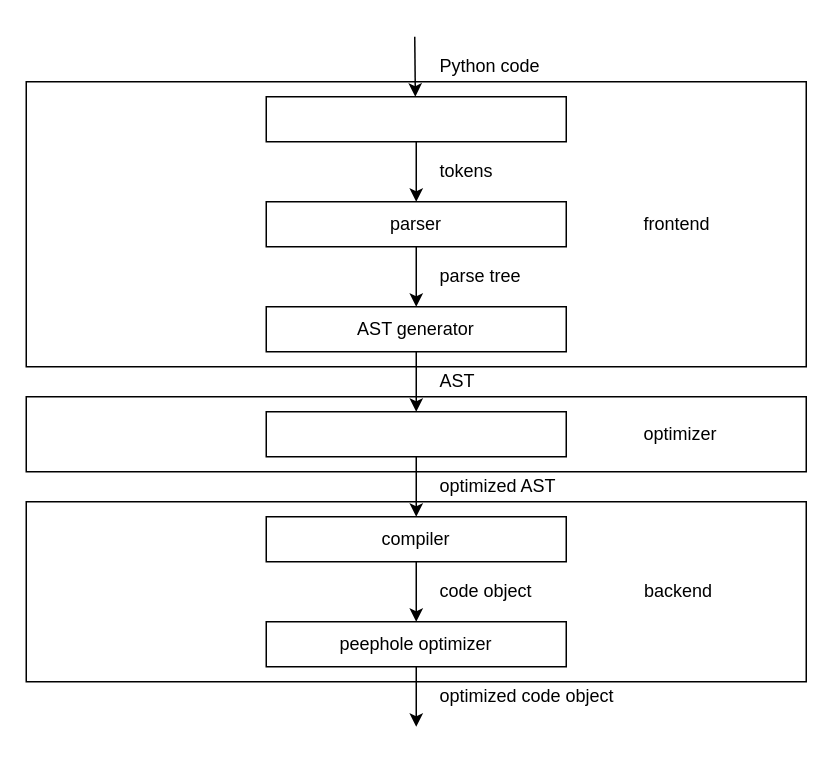
This 833x765 diagram has some shape labels left out. Each missing label, with the centre of its shape:
"AST optimizer" belongs at point (415, 433).
"lexer" belongs at point (415, 118).
